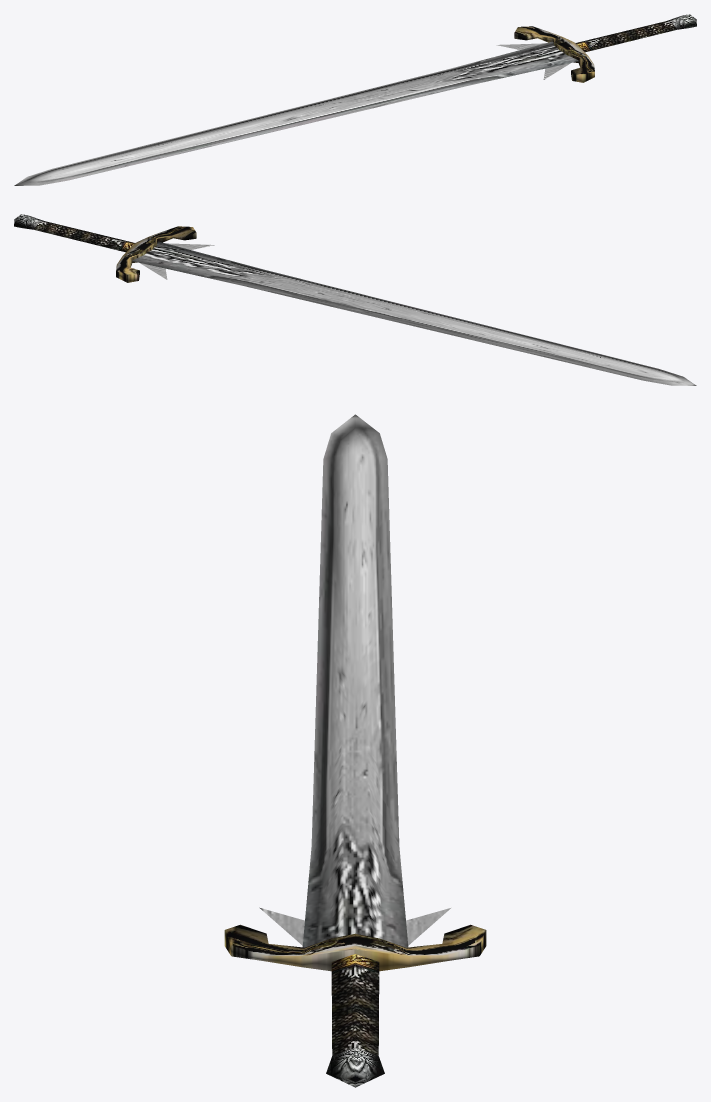
The model's file is ITMW_058_1H_SWORD_BASTARD_02.glb.
3 renders of one model, top to bottom at view 1: azimuth 30°, elevation 25°; view 2: azimuth 150°, elevation 25°; view 3: azimuth 270°, elevation 25°, orthographic. The views are drawn at different scales.
Visible parts, largest first — view 1: Mesh; view 2: Mesh; view 3: Mesh.
Boxes of the visible parts, x1,y1,x2,y2 form: Mesh: (14, 14, 696, 185); Mesh: (14, 214, 696, 385); Mesh: (224, 414, 486, 1087).
Size of the model in its own units: 1.22 by 0.0241 by 0.2032.
2 materials, 2 textured.
